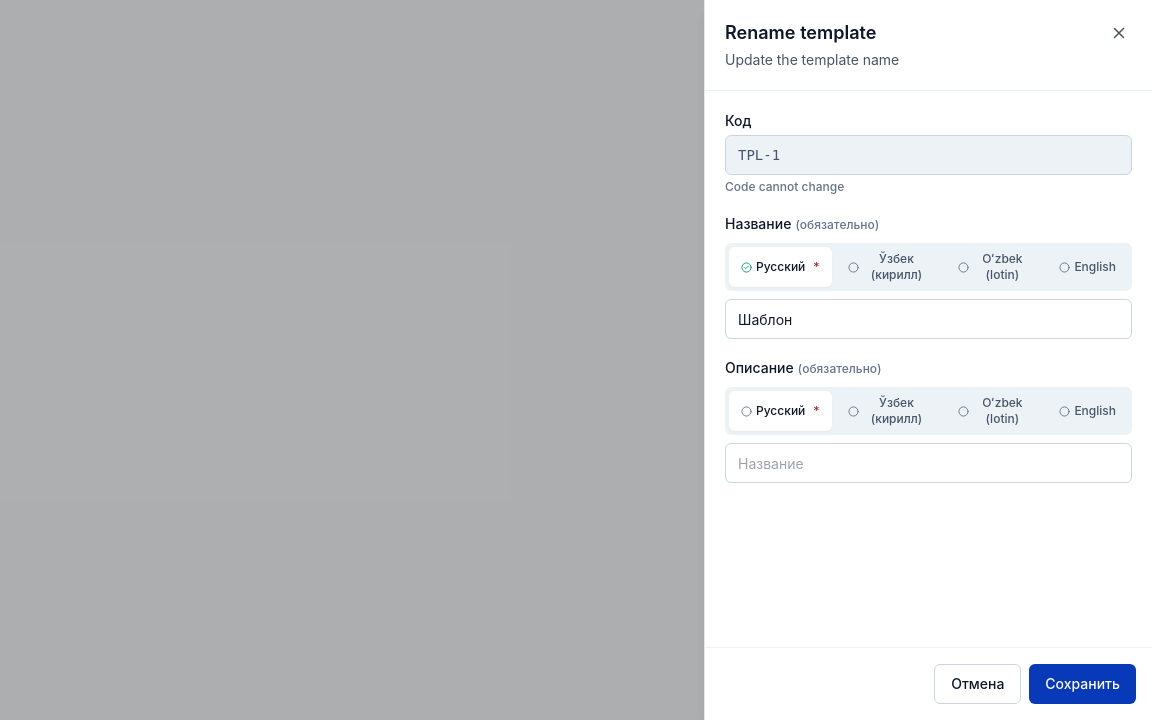
Test: <RenameTemplateDrawer /> (shared) › maps a 404 rejection to notFoundError
Step 1. Click the button "Сохранить" → (1083, 684), box left=1029, top=664, right=1136, bottom=704
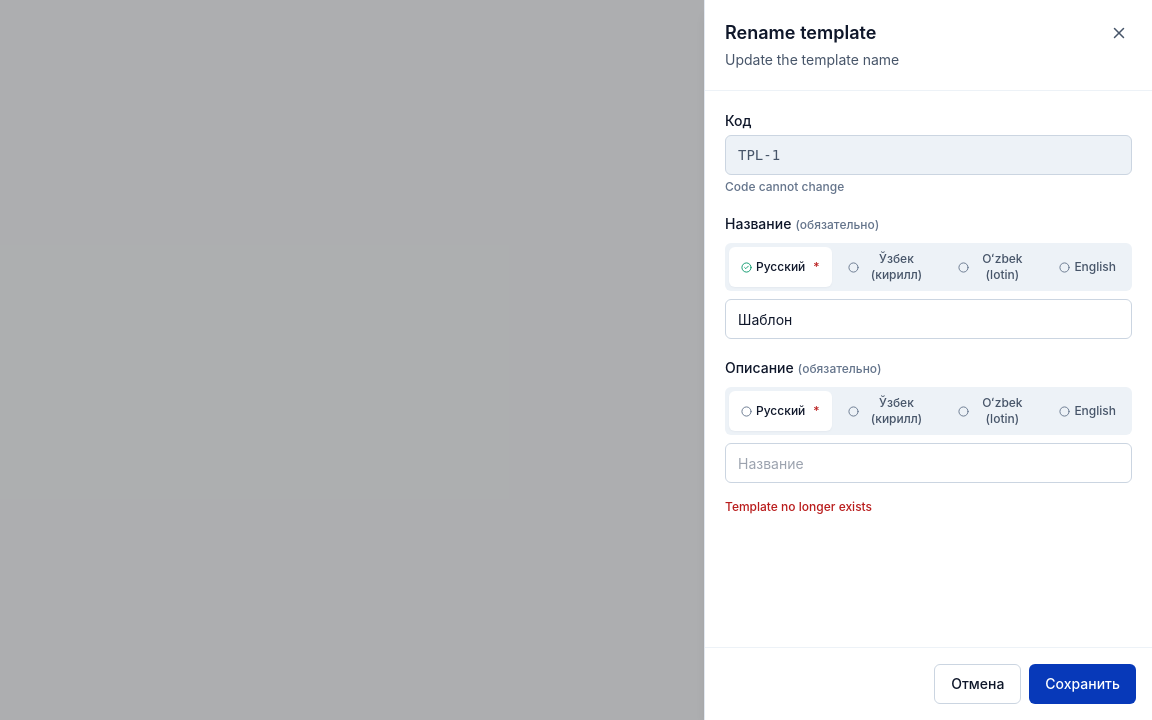
Check: the message with test id "fake-rename-template-error" reads "Template no longer exists", box left=725, top=499, right=872, bottom=514
